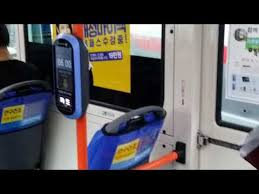terminal: (48, 31, 93, 121)
